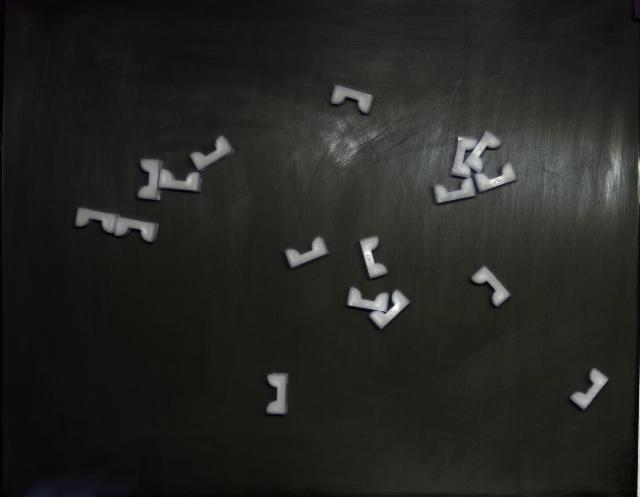third_side: (471, 266, 510, 308), (370, 290, 410, 330), (570, 369, 609, 410), (190, 136, 234, 172), (465, 131, 501, 172), (285, 236, 329, 269), (475, 162, 518, 192), (330, 85, 374, 114), (360, 236, 388, 279), (451, 136, 478, 178), (75, 208, 118, 234), (434, 178, 476, 204), (114, 218, 159, 242), (138, 159, 162, 200), (348, 288, 389, 312), (159, 169, 201, 192), (266, 374, 289, 415)
